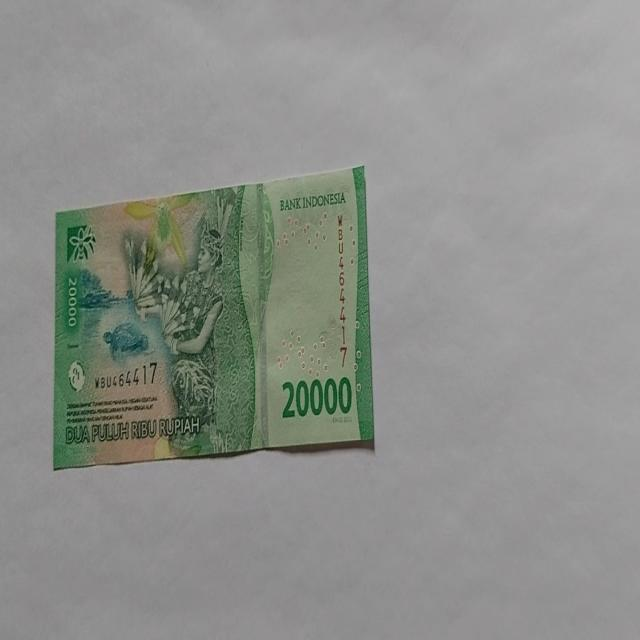dua puluh ribu rupiah: (53, 164, 375, 468)
